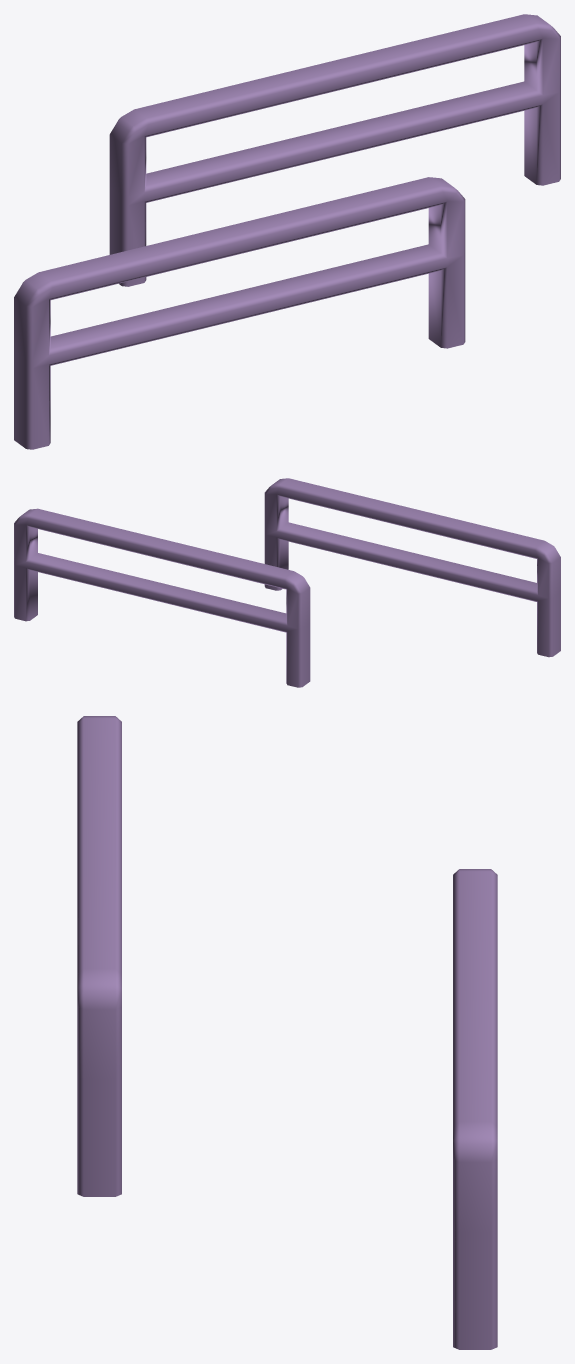
The model's file is Gates.fbx.
3 renders of one model, top to bottom at view 1: azimuth 30°, elevation 25°; view 2: azimuth 150°, elevation 25°; view 3: azimuth 270°, elevation 25°, orthographic. The views are drawn at different scales.
Visible parts, largest first — view 1: pCube15, pasted__pCube15; view 2: pasted__pCube15, pCube15; view 3: pCube15, pasted__pCube15.
Boxes of the visible parts, x1,y1,x2,y2 form: pCube15: [14, 177, 465, 449]; pasted__pCube15: [109, 14, 560, 286]; pasted__pCube15: [14, 508, 310, 687]; pCube15: [264, 478, 560, 657]; pCube15: [77, 716, 121, 1196]; pasted__pCube15: [453, 869, 497, 1349].
Bounding box in the file's own units: 3.37 × 0.77 × 1.38.
